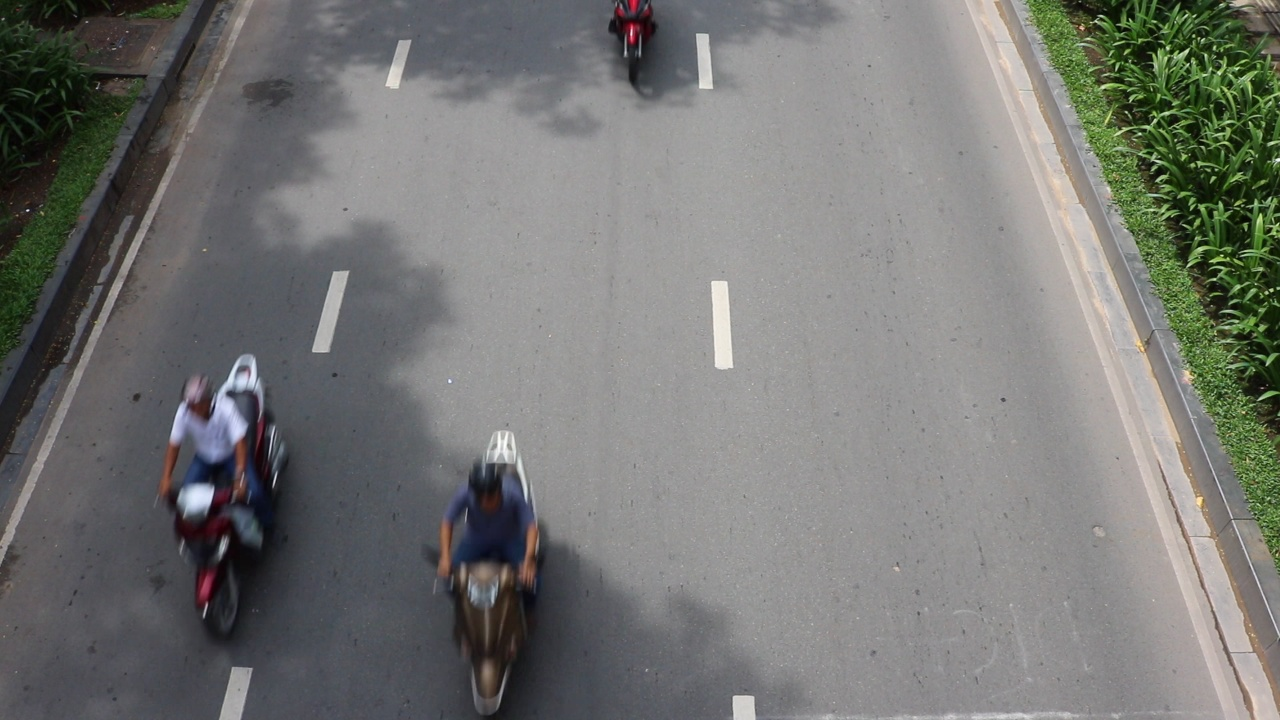motorcycle: (164, 476, 262, 641), (450, 557, 529, 717), (605, 0, 661, 94)
